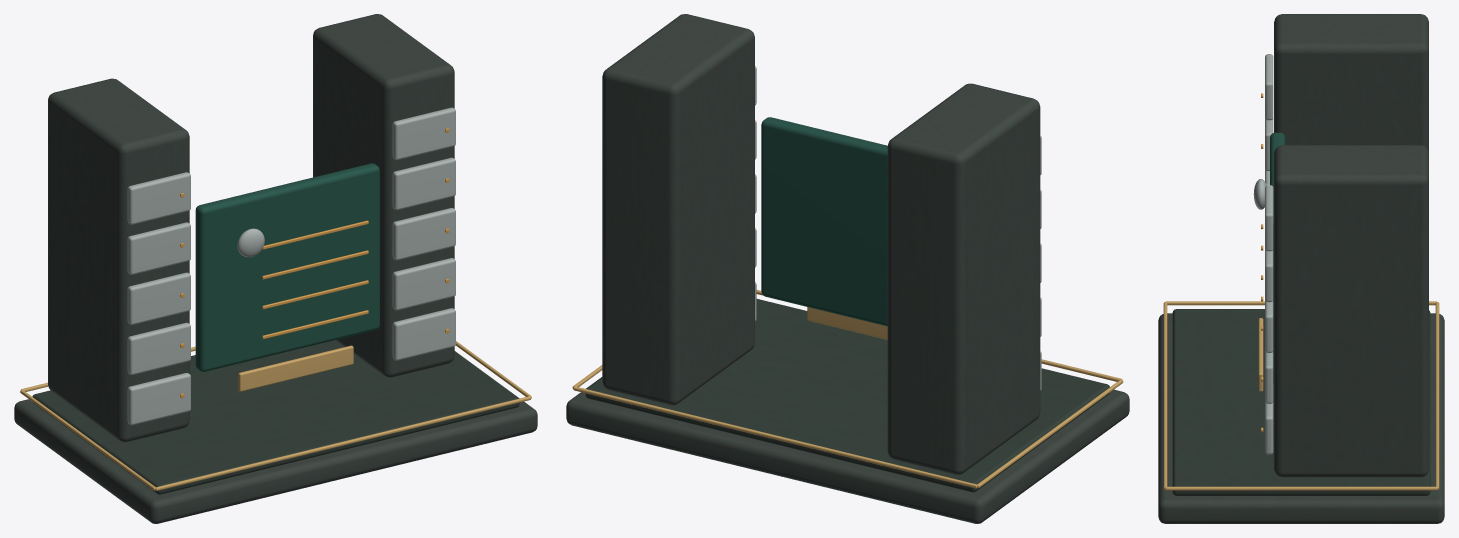
The model's file is personality-terminal.glb.
3 renders of one model, left to right at view 1: azimuth 30°, elevation 25°; view 2: azimuth 150°, elevation 25°; view 3: azimuth 270°, elevation 25°, orthographic. The views are drawn at different scales.
Visible parts, largest first — view 1: server_column, felt_insert, profile_directory, server_column.001, display_base, server_drawer.001, server_drawer.004, server_drawer.005, server_drawer, server_drawer.003, server_drawer.008, server_drawer.006 (+7 smaller); view 2: server_column, server_column.001, felt_insert, profile_directory, display_base, brass_rim_Back, instance_status, brass_rim_Left; view 3: server_column.001, server_column, felt_insert, display_base, brass_rim_Right, brass_rim_Back, brass_rim_Front, server_drawer.009, server_drawer.004, profile_directory, brass_rim_Left, server_drawer.005 (+4 smaller).
Part boxes in pixels (x1,y1,x2,y2): server_column: (48, 78, 189, 442); felt_insert: (32, 340, 519, 494); profile_directory: (195, 163, 379, 371); server_column.001: (313, 14, 454, 377); display_base: (14, 351, 537, 523); server_drawer.001: (127, 322, 190, 374); server_drawer.004: (127, 172, 190, 224); server_drawer.005: (392, 308, 455, 360); server_drawer: (127, 372, 190, 425); server_drawer.003: (127, 222, 190, 274); server_drawer.008: (392, 157, 455, 209); server_drawer.006: (392, 258, 455, 310); server_column: (887, 83, 1040, 474); server_column.001: (602, 14, 754, 405); felt_insert: (585, 299, 1109, 492); profile_directory: (761, 117, 887, 326); display_base: (566, 377, 1129, 523); brass_rim_Back: (573, 386, 977, 488); instance_status: (807, 307, 887, 339); brass_rim_Left: (977, 379, 1123, 488); server_column.001: (1274, 145, 1428, 477); server_column: (1274, 14, 1428, 151); felt_insert: (1172, 309, 1430, 495); display_base: (1158, 313, 1444, 523); brass_rim_Right: (1165, 486, 1437, 490); brass_rim_Back: (1435, 302, 1439, 489); brass_rim_Front: (1163, 302, 1167, 489); server_drawer.009: (1265, 185, 1273, 251); server_drawer.004: (1265, 54, 1273, 120); profile_directory: (1270, 132, 1285, 384); brass_rim_Left: (1166, 301, 1436, 305); server_drawer.005: (1265, 401, 1273, 454).
Size of the model in its own units: 0.38 by 0.311 by 0.24.
6 materials, 2 textured.
